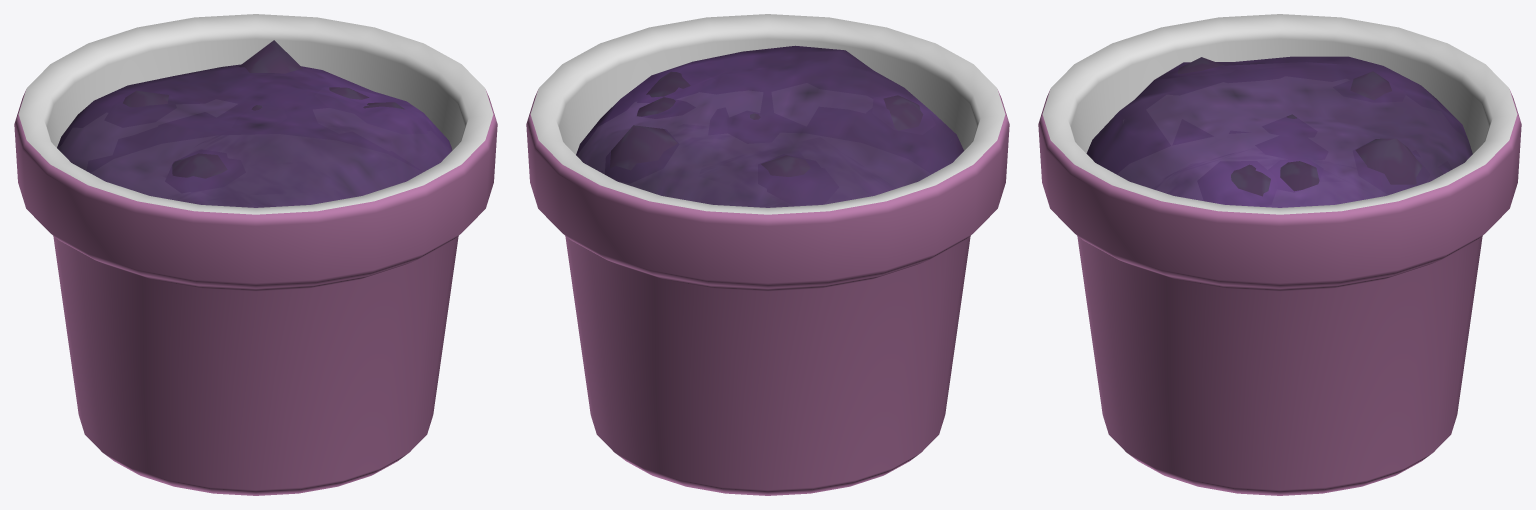
Rendered from pi_cocotteplate08_berryjam.gltf.
3 views of the same model, side by side, from view 1: azimuth 30°, elevation 25°; view 2: azimuth 150°, elevation 25°; view 3: azimuth 270°, elevation 25° (orthographic).
Parts seen in each view (by area): view 1: pi_cocotteplate08_mesh_shape:pi_cocotteplate08_body, pi_berryjam01_mesh_shape:pi_cocotteplate08_berryjam_body, pi_blueberry01_mesh_shape:pi_cocotteplate08_berryjam_body, pi_blueberry02_mesh_shape:pi_cocotteplate08_berryjam_body, pi_blueberry05_mesh_shape:pi_cocotteplate08_berryjam_body; view 2: pi_cocotteplate08_mesh_shape:pi_cocotteplate08_body, pi_berryjam01_mesh_shape:pi_cocotteplate08_berryjam_body, pi_blueberry01_mesh_shape:pi_cocotteplate08_berryjam_body, pi_blueberry02_mesh_shape:pi_cocotteplate08_berryjam_body, pi_blueberry05_mesh_shape:pi_cocotteplate08_berryjam_body, pi_blueberry04_mesh_shape:pi_cocotteplate08_berryjam_body; view 3: pi_cocotteplate08_mesh_shape:pi_cocotteplate08_body, pi_berryjam01_mesh_shape:pi_cocotteplate08_berryjam_body, pi_blueberry01_mesh_shape:pi_cocotteplate08_berryjam_body, pi_blueberry03_mesh_shape:pi_cocotteplate08_berryjam_body, pi_blueberry04_mesh_shape:pi_cocotteplate08_berryjam_body, pi_blueberry05_mesh_shape:pi_cocotteplate08_berryjam_body.
Part boxes in pixels (left/top/right/bottom): pi_cocotteplate08_mesh_shape:pi_cocotteplate08_body: left=14, top=14, right=497, bottom=495; pi_berryjam01_mesh_shape:pi_cocotteplate08_berryjam_body: left=57, top=64, right=452, bottom=207; pi_blueberry01_mesh_shape:pi_cocotteplate08_berryjam_body: left=238, top=40, right=302, bottom=73; pi_blueberry02_mesh_shape:pi_cocotteplate08_berryjam_body: left=172, top=153, right=227, bottom=178; pi_blueberry05_mesh_shape:pi_cocotteplate08_berryjam_body: left=122, top=90, right=168, bottom=107; pi_cocotteplate08_mesh_shape:pi_cocotteplate08_body: left=526, top=14, right=1009, bottom=495; pi_berryjam01_mesh_shape:pi_cocotteplate08_berryjam_body: left=576, top=45, right=963, bottom=207; pi_blueberry01_mesh_shape:pi_cocotteplate08_berryjam_body: left=610, top=125, right=677, bottom=170; pi_blueberry02_mesh_shape:pi_cocotteplate08_berryjam_body: left=883, top=95, right=923, bottom=130; pi_blueberry05_mesh_shape:pi_cocotteplate08_berryjam_body: left=761, top=155, right=810, bottom=176; pi_blueberry04_mesh_shape:pi_cocotteplate08_berryjam_body: left=646, top=71, right=690, bottom=97; pi_cocotteplate08_mesh_shape:pi_cocotteplate08_body: left=1038, top=14, right=1521, bottom=495; pi_berryjam01_mesh_shape:pi_cocotteplate08_berryjam_body: left=1086, top=56, right=1472, bottom=207; pi_blueberry01_mesh_shape:pi_cocotteplate08_berryjam_body: left=1355, top=138, right=1422, bottom=184; pi_blueberry03_mesh_shape:pi_cocotteplate08_berryjam_body: left=1280, top=161, right=1319, bottom=191; pi_blueberry04_mesh_shape:pi_cocotteplate08_berryjam_body: left=1231, top=164, right=1270, bottom=196; pi_blueberry05_mesh_shape:pi_cocotteplate08_berryjam_body: left=1350, top=71, right=1392, bottom=100.
Bounding box in the file's own units: 0.0797 × 0.0603 × 0.0797.
2 materials, 2 textured.
